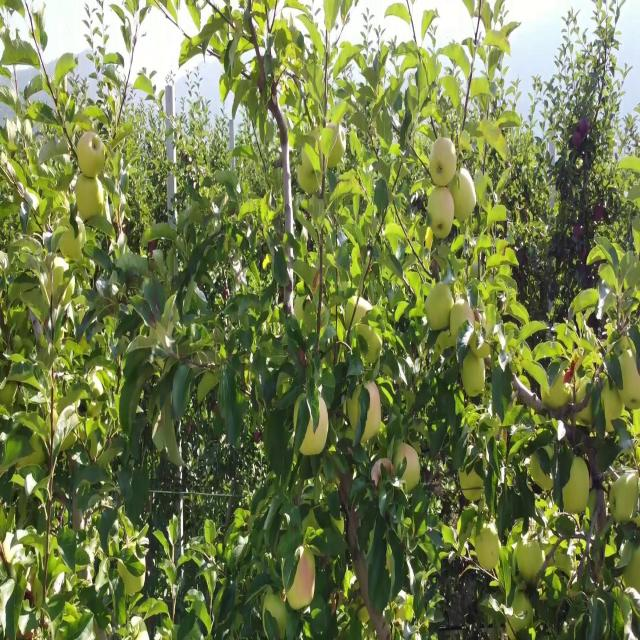apple: (348, 383, 383, 443), (300, 398, 329, 457), (288, 554, 316, 612), (564, 462, 591, 517), (76, 177, 105, 226), (432, 135, 458, 187), (452, 170, 476, 224), (428, 191, 453, 242), (428, 284, 453, 334), (264, 590, 288, 638), (397, 447, 421, 494), (80, 135, 106, 178), (300, 149, 323, 196), (468, 319, 492, 361), (464, 355, 487, 398), (604, 391, 625, 434), (460, 469, 484, 505), (548, 376, 571, 412), (452, 298, 471, 340), (60, 227, 82, 263), (300, 163, 323, 197), (416, 127, 434, 169), (372, 462, 396, 491), (576, 391, 595, 427), (468, 334, 492, 361), (440, 334, 457, 354), (420, 136, 430, 169), (572, 127, 584, 149), (424, 227, 435, 251), (460, 135, 472, 155), (148, 241, 158, 261), (424, 184, 436, 199), (580, 120, 591, 135), (300, 199, 311, 213), (596, 206, 605, 222), (576, 227, 585, 242)
